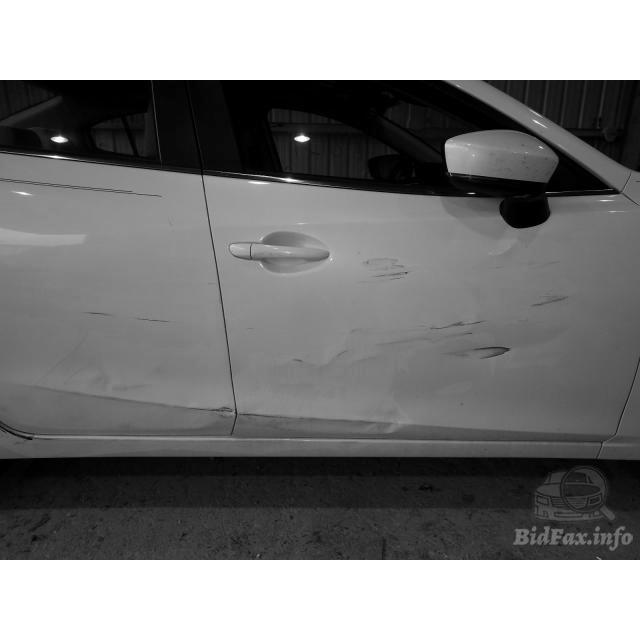doorouter-dent: (219, 193, 615, 439), (2, 170, 210, 440)
